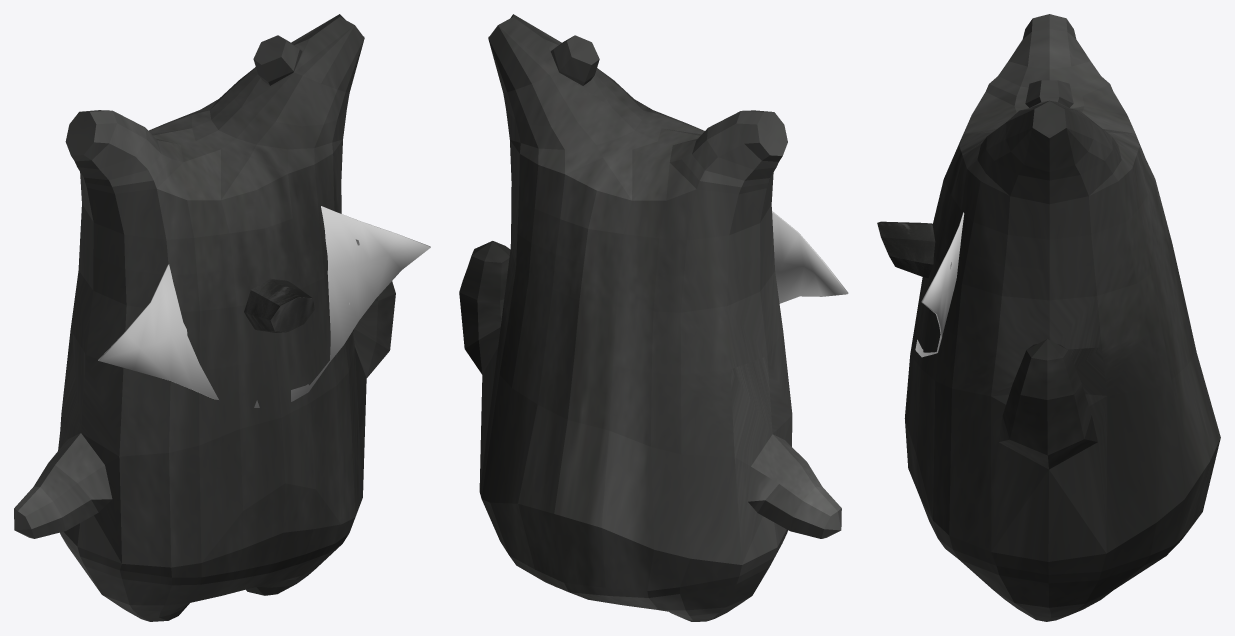
File: frame_0040.obj
The picture shows the model from 3 angles, left to right: view 1: azimuth 30°, elevation 25°; view 2: azimuth 150°, elevation 25°; view 3: azimuth 270°, elevation 25°; orthographic projection.
Parts seen in each view (by area): view 1: korok, leaf, nose; view 2: korok, leaf; view 3: korok, nose, leaf.
Boxes of the visible parts, box(x1,y1,x2,y2) form: korok: box(14, 14, 395, 621); leaf: box(98, 206, 430, 407); nose: box(244, 278, 314, 332); korok: box(459, 14, 841, 621); leaf: box(772, 211, 848, 303); korok: box(904, 14, 1220, 621); nose: box(877, 221, 935, 278); leaf: box(915, 212, 964, 357).
Bounding box in the file's own units: 1.6 × 2.25 × 1.27.
